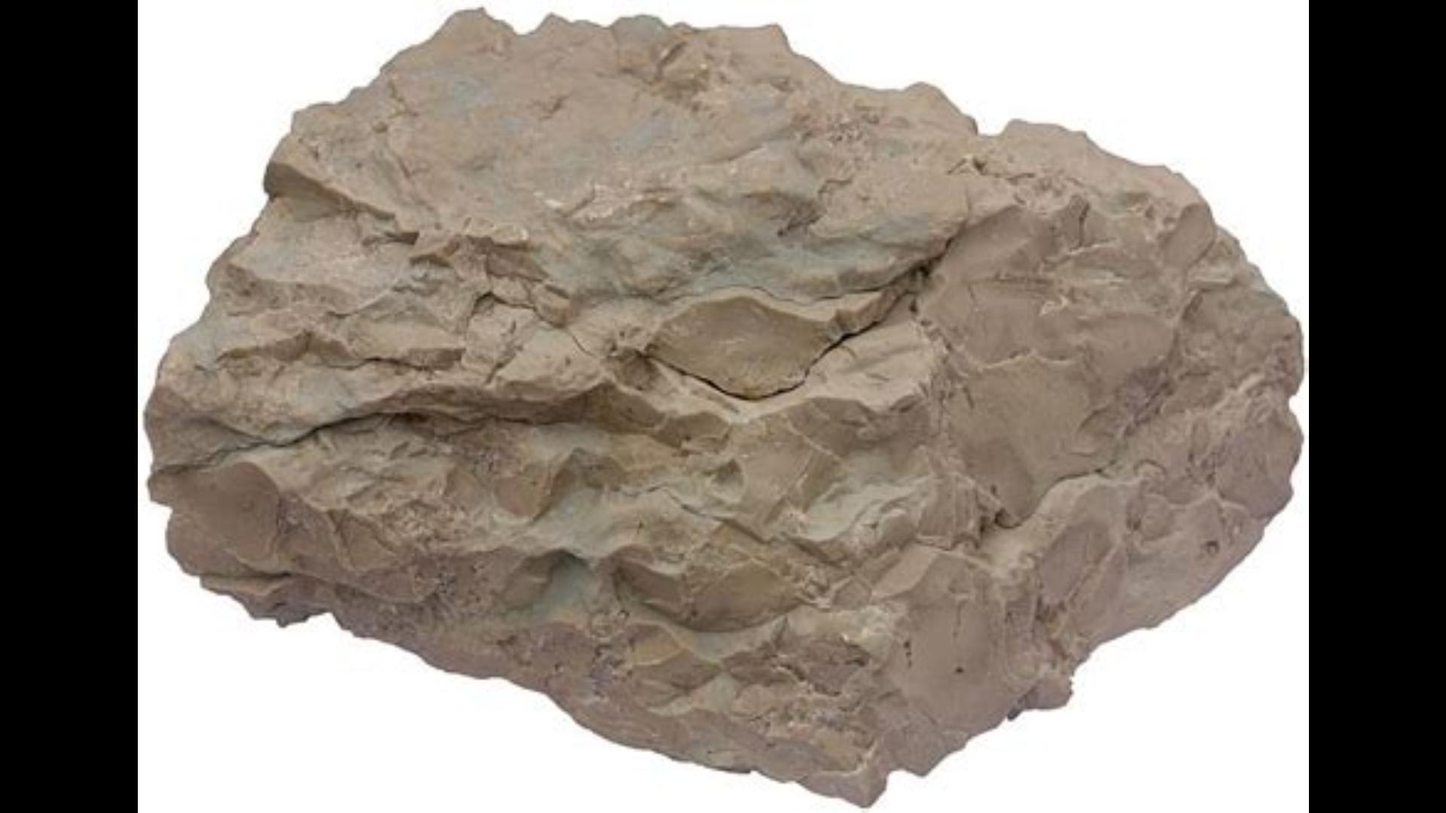rock: (147, 12, 1297, 801)
